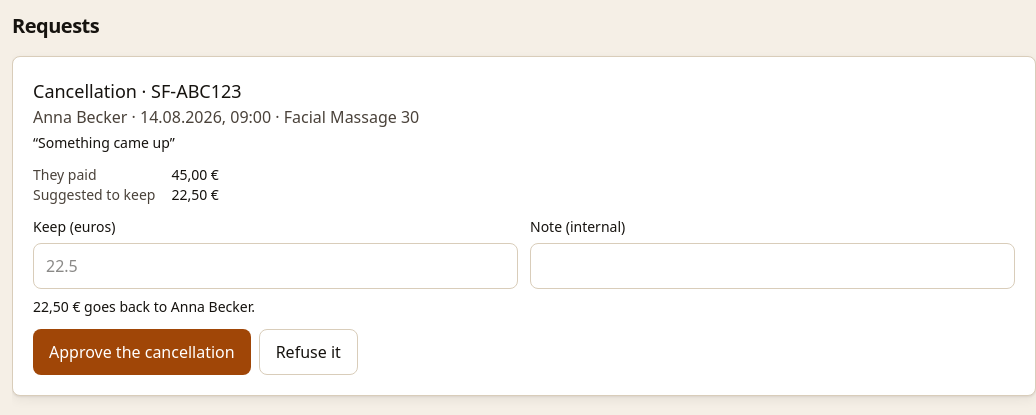
it: RequestsPage › updates the refund preview as the retained amount is typed
Type "10.00" into the field with test id "retained".
click(276, 266); type("10.00")  # box [33, 243, 518, 289]
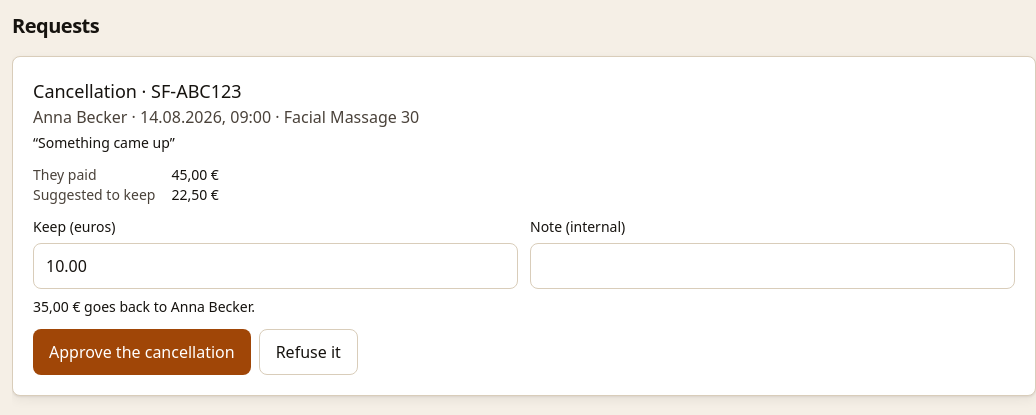
Result: the text with test id "refund-preview" shows "35,00" at [33, 297, 255, 316]
